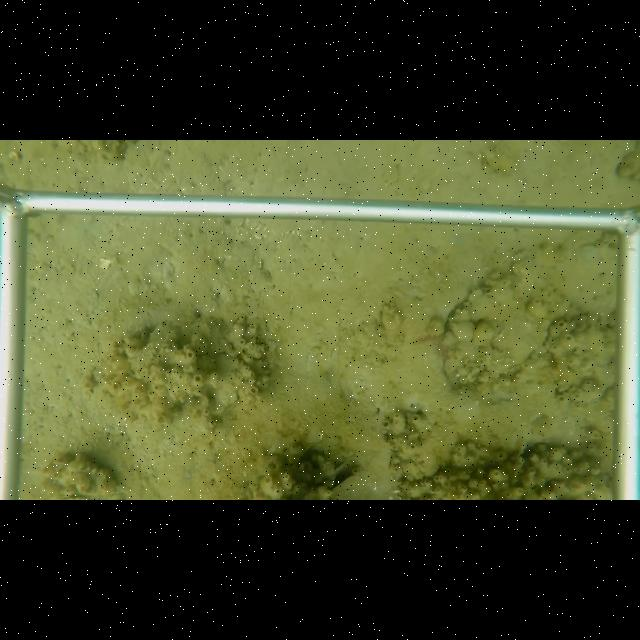Oyster-Closed: (443, 242, 621, 396)
